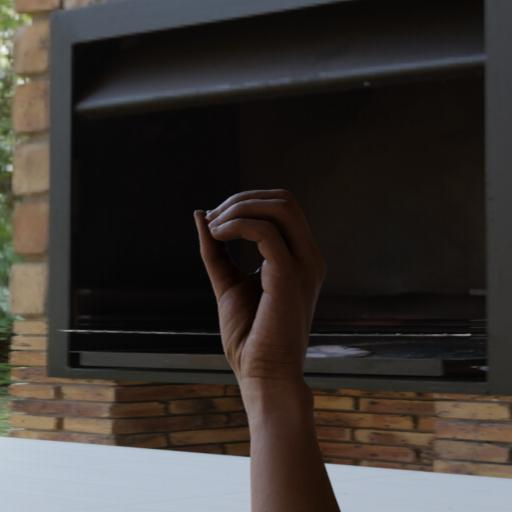O: (187, 178, 349, 424)
